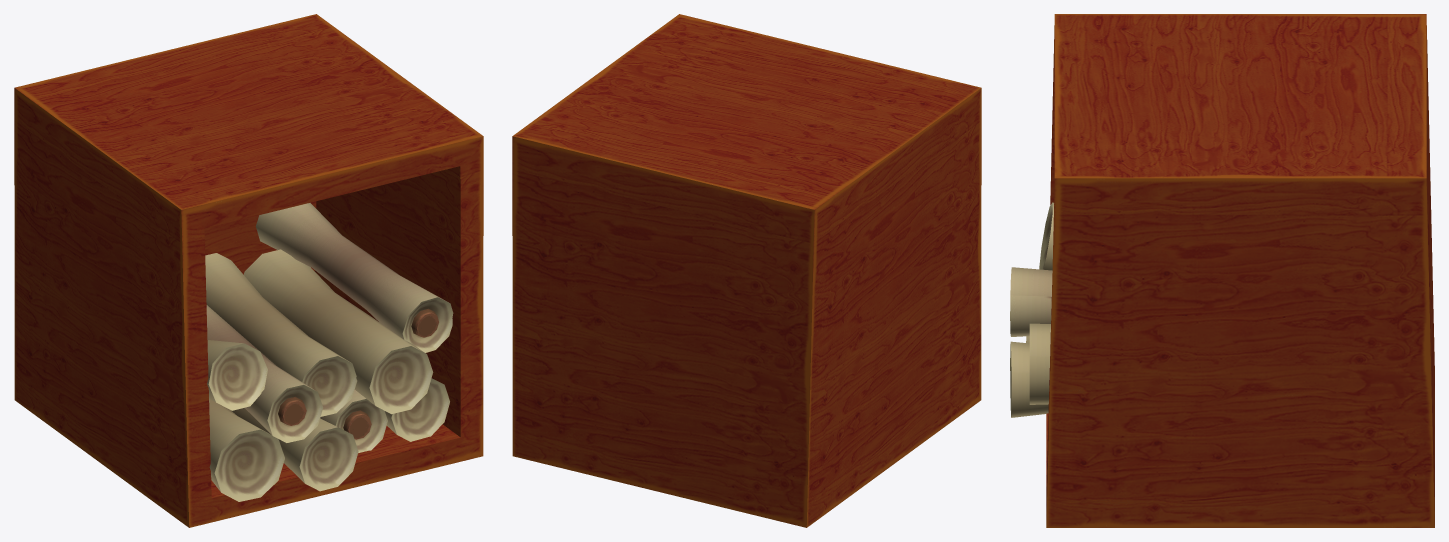
The model's file is teascroll_clubhouse_-_empty_room_module.glb.
The picture shows the model from 3 angles, left to right: view 1: azimuth 30°, elevation 25°; view 2: azimuth 150°, elevation 25°; view 3: azimuth 270°, elevation 25°; orthographic projection. The views are drawn at different scales.
Parts seen in each view (by area): view 1: Fur_ScrollCrate_01; view 2: Fur_ScrollCrate_01; view 3: Fur_ScrollCrate_01.
Boxes of the visible parts, x1,y1,x2,y2 form: Fur_ScrollCrate_01: (14,14,483,527); Fur_ScrollCrate_01: (512,14,981,527); Fur_ScrollCrate_01: (1010,14,1434,527).
Bounding box in the file's own units: 0.4737 × 0.4737 × 0.518.
1 material, 1 textured.
